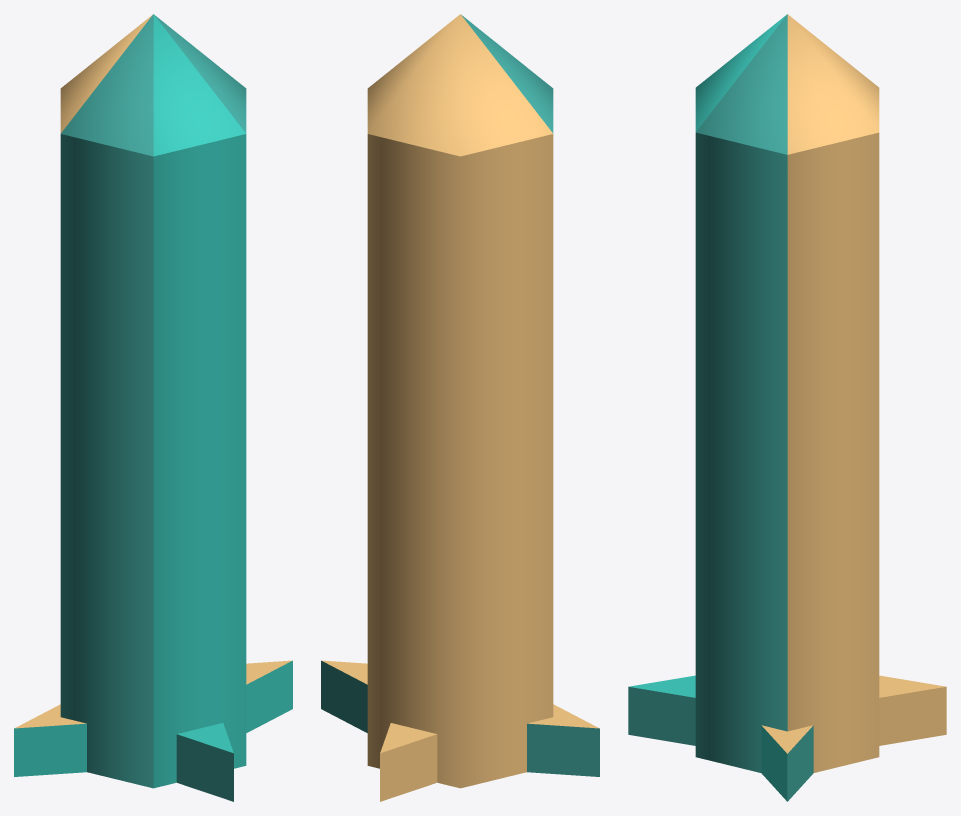
File: Solo.MissileMesh.TealGalaxy.glb
3 views of the same model, side by side, from view 1: azimuth 30°, elevation 25°; view 2: azimuth 150°, elevation 25°; view 3: azimuth 270°, elevation 25° (orthographic).
Parts seen in each view (by area): view 1: Solo.MissileMesh.TealGalaxy; view 2: Solo.MissileMesh.TealGalaxy; view 3: Solo.MissileMesh.TealGalaxy.
Boxes of the visible parts, x1,y1,x2,y2 form: Solo.MissileMesh.TealGalaxy: (14,14,292,801); Solo.MissileMesh.TealGalaxy: (321,14,599,801); Solo.MissileMesh.TealGalaxy: (628,14,946,801).
Bounding box in the file's own units: 0.6 × 1.5 × 0.6.
1 material, 1 textured.
